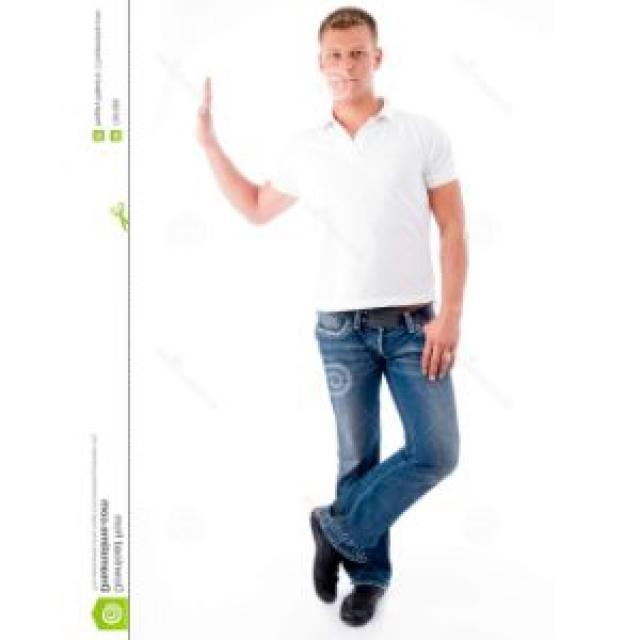adult: (186, 0, 499, 640)
